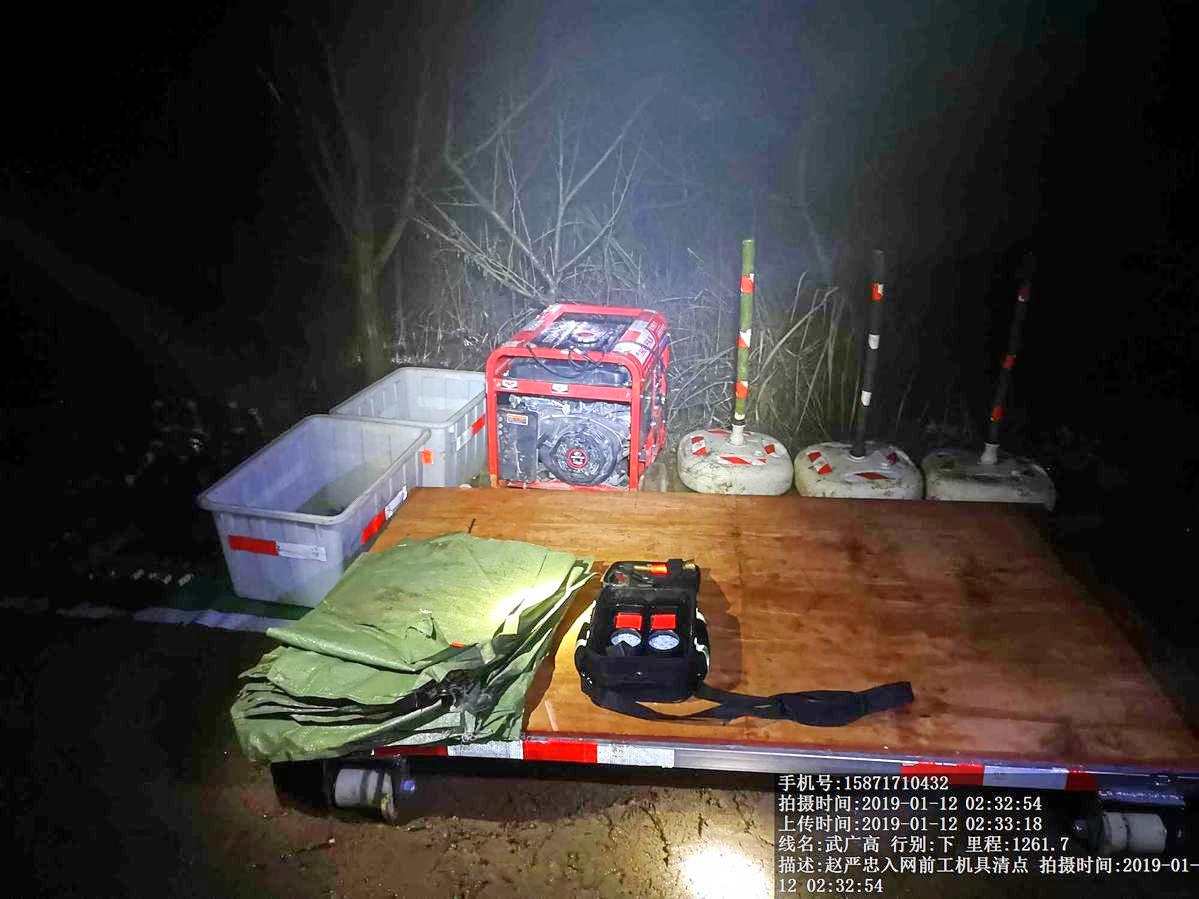BZD: (234, 556, 584, 754)
DJ: (480, 294, 673, 492)
GJB: (585, 547, 731, 711)
ST: (675, 221, 793, 498), (931, 254, 1062, 503), (807, 227, 921, 500)
T: (214, 415, 428, 591), (337, 346, 489, 485)
